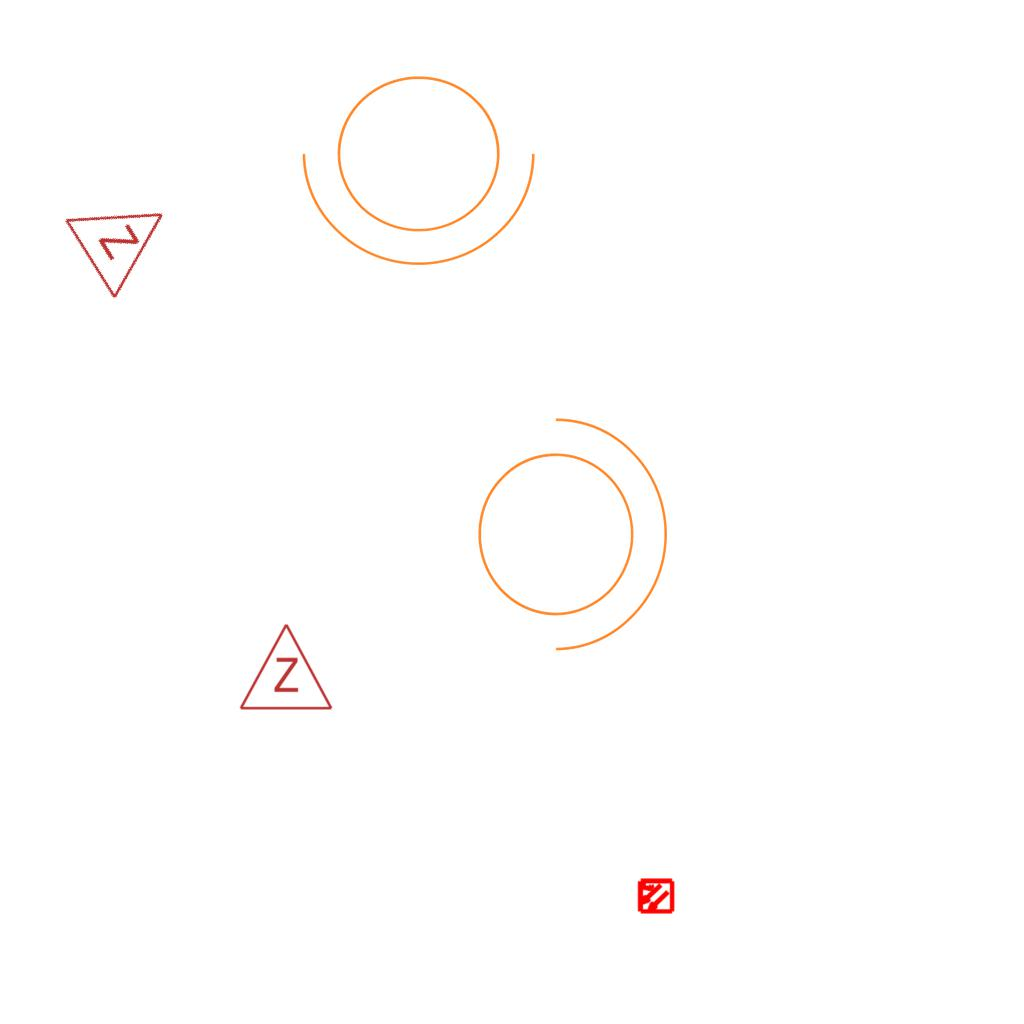OT_Multisensormelder_(Kombination_RMO_WMD): (627, 868, 683, 924)
Scheinwerfer_fuer_Alarmbeleuchtung: (453, 396, 678, 660), (293, 51, 557, 276)
Zimmersignalleuchte: (56, 167, 194, 305), (236, 617, 334, 717)
